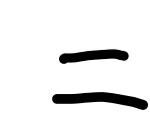eqv: (50, 47, 149, 111)
